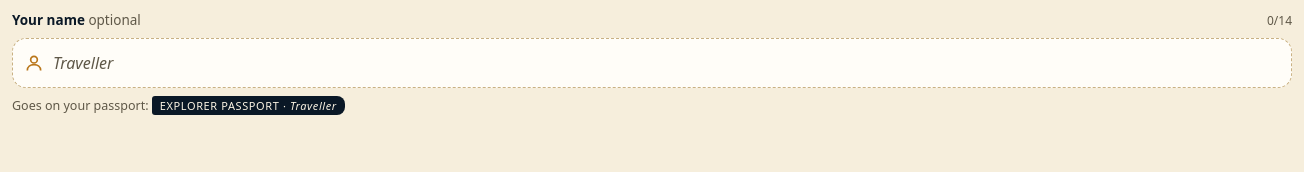
Scenario: FR-1 name rule in the field › updates the counter and the passport preview as the player types
Expected: the text "Traveller" is shown, [290, 98, 337, 112]
Type "Ingrid" into the field labelled "Your name optional" at (652, 62), box [12, 38, 1292, 88]
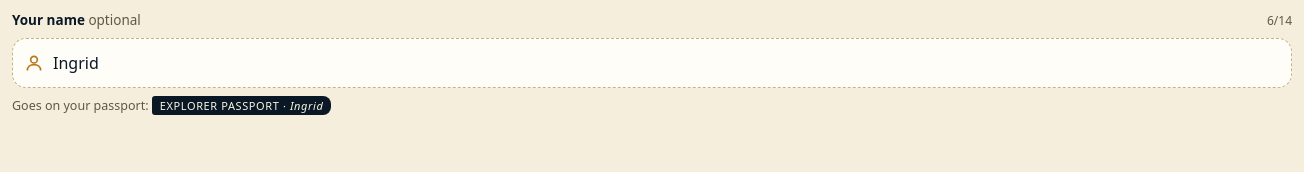
Now the text "6/14" is shown, box [1267, 13, 1292, 29]
Now the text "Ingrid" is shown, box [290, 98, 323, 112]
